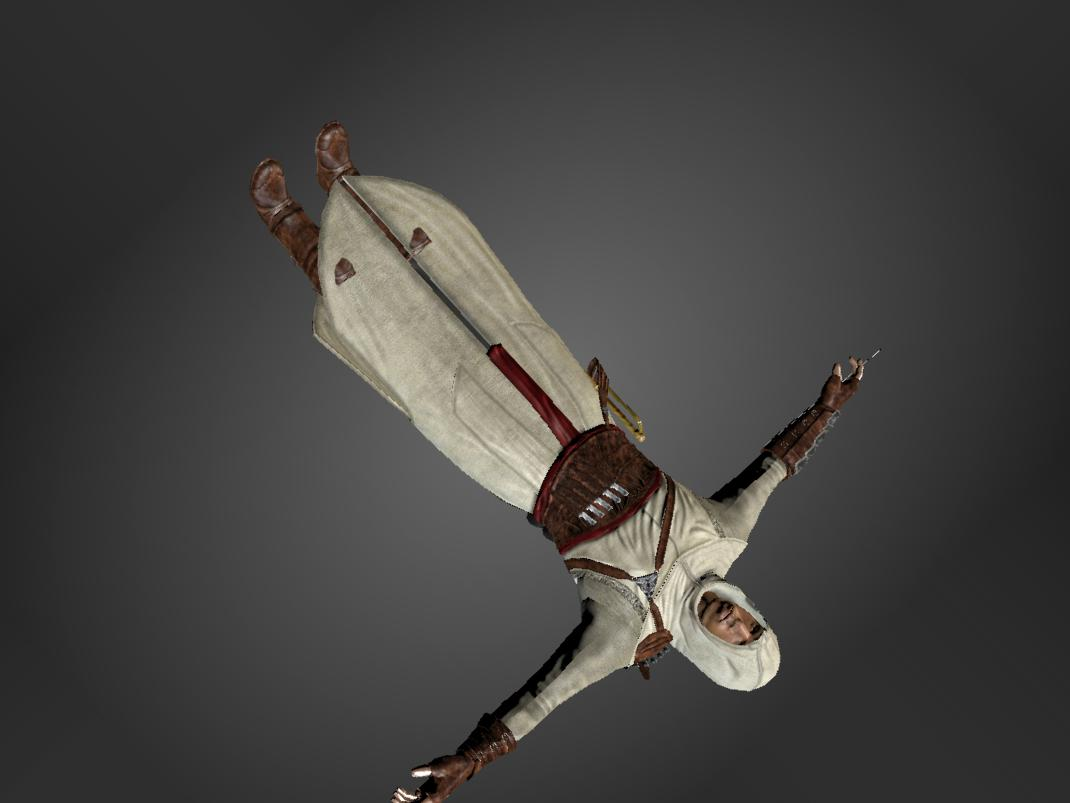clip: (403, 217, 440, 260), (330, 253, 363, 287)
